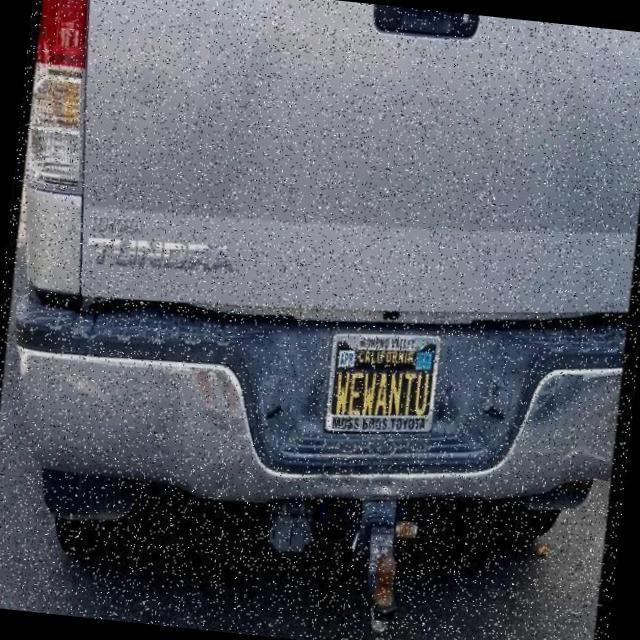License Plate: (325, 321, 443, 447)
